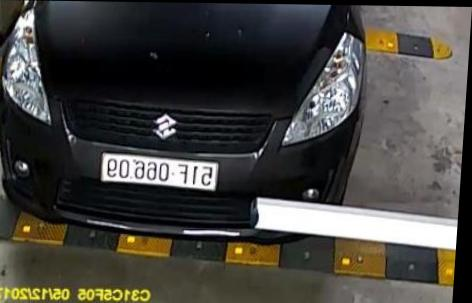License_Plate: (88, 146, 220, 192)
